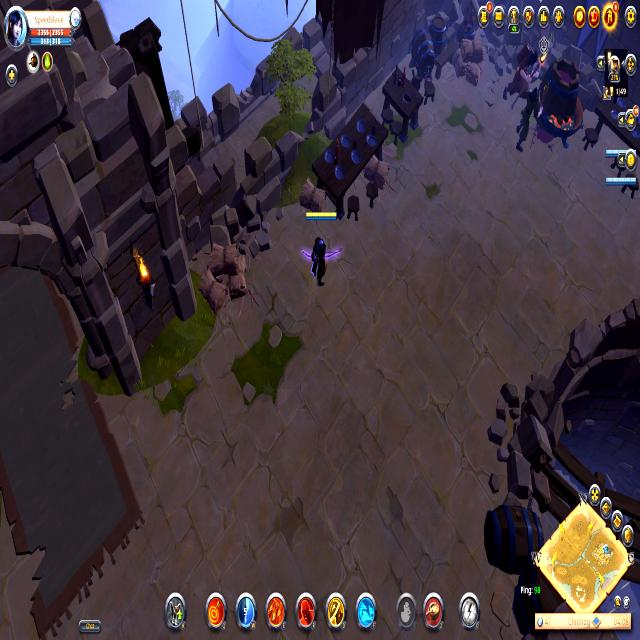ore: (501, 34, 555, 165)
red: (300, 206, 346, 290), (603, 144, 640, 158), (601, 174, 640, 187)
